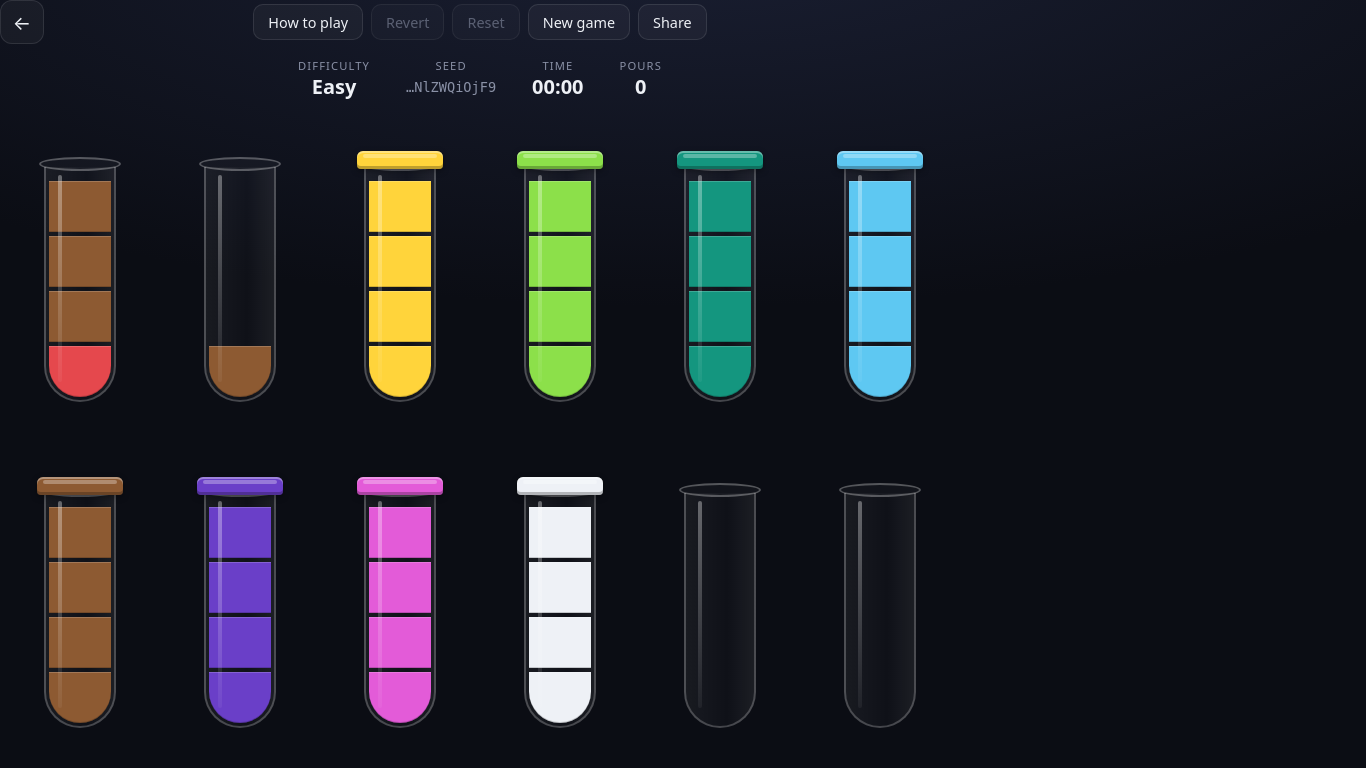
Test: actions › opens the help and pauses the clock while it is open
Click the button named "vial": click(80, 280) [44, 157, 116, 402]
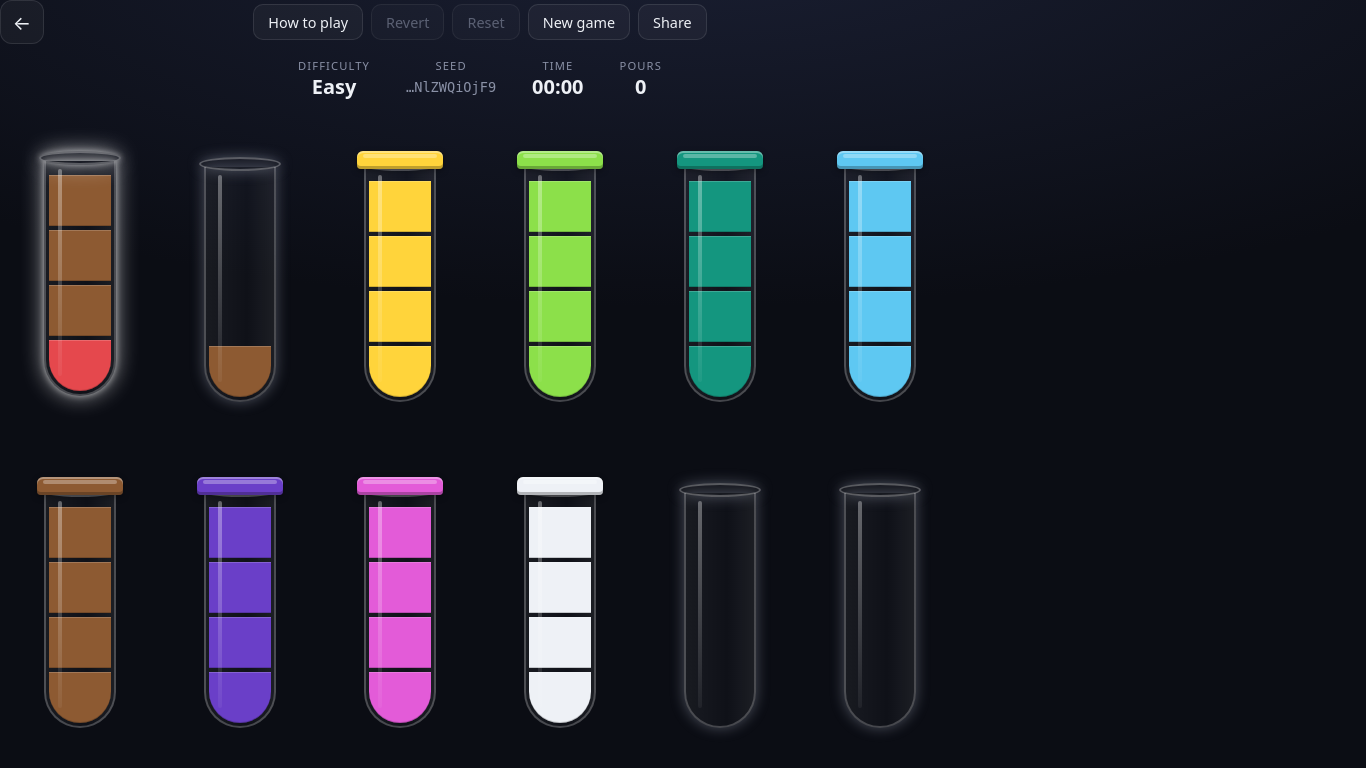
Click the button named "vial": click(240, 280) [204, 157, 276, 402]
Wait 2300 ms
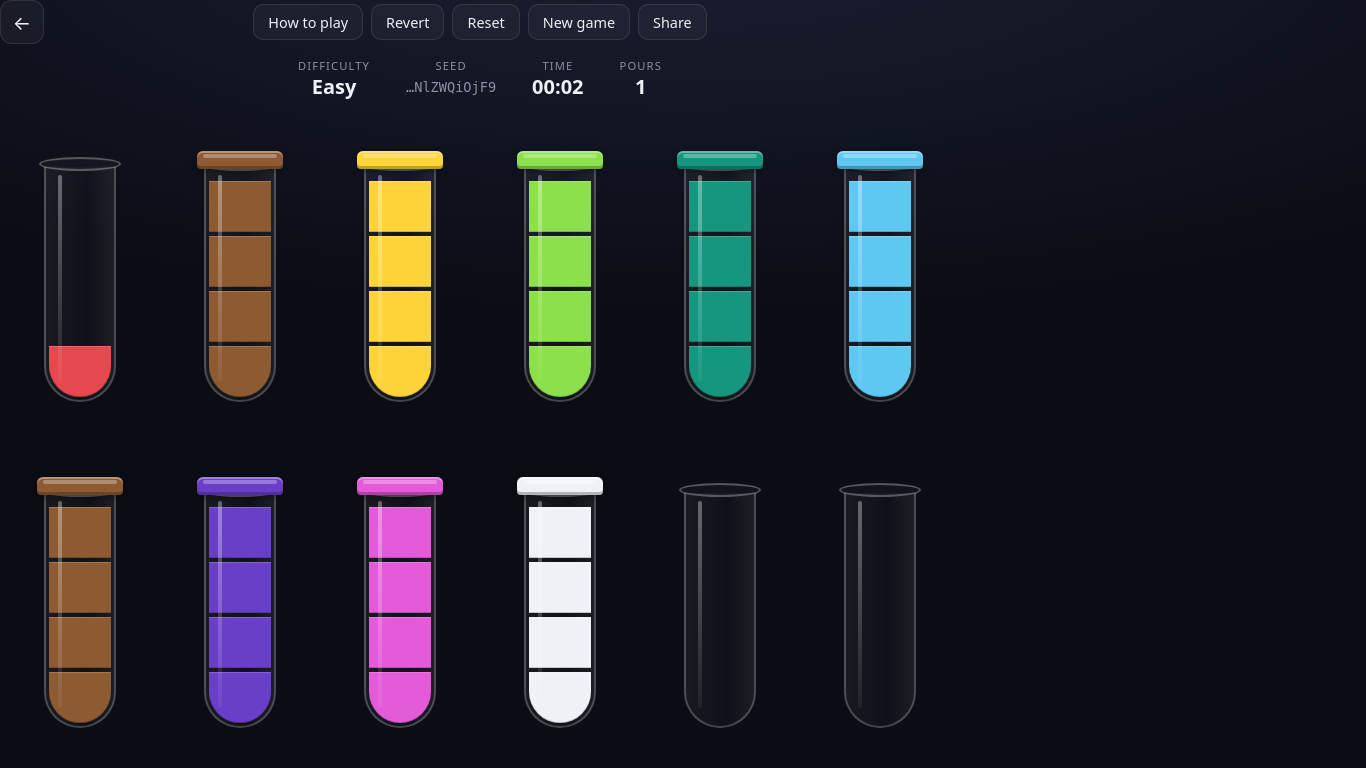
Click the button "How to play": click(308, 22) [253, 4, 363, 40]
Wait 10000 ms
(page scrolled)
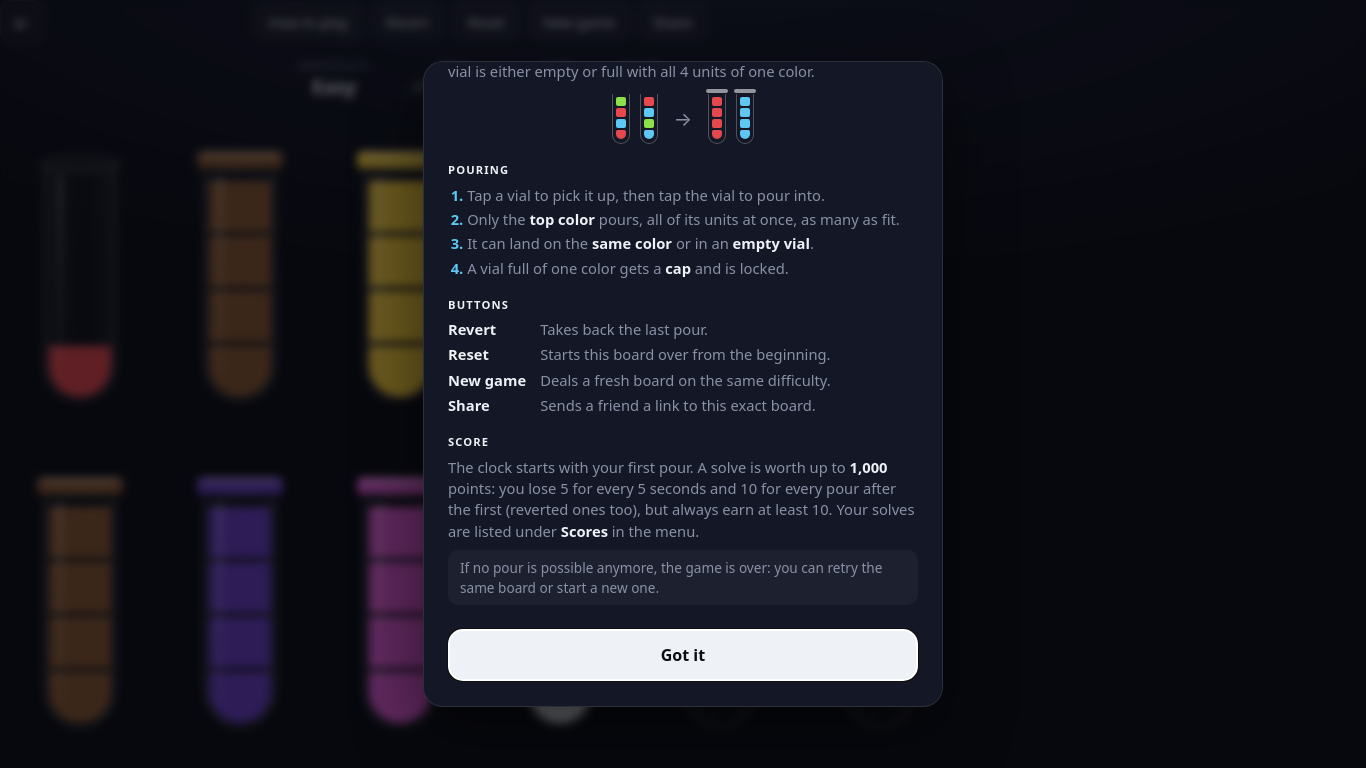
Click the button "Got it": click(683, 655) [448, 629, 918, 681]
Wait 3000 ms
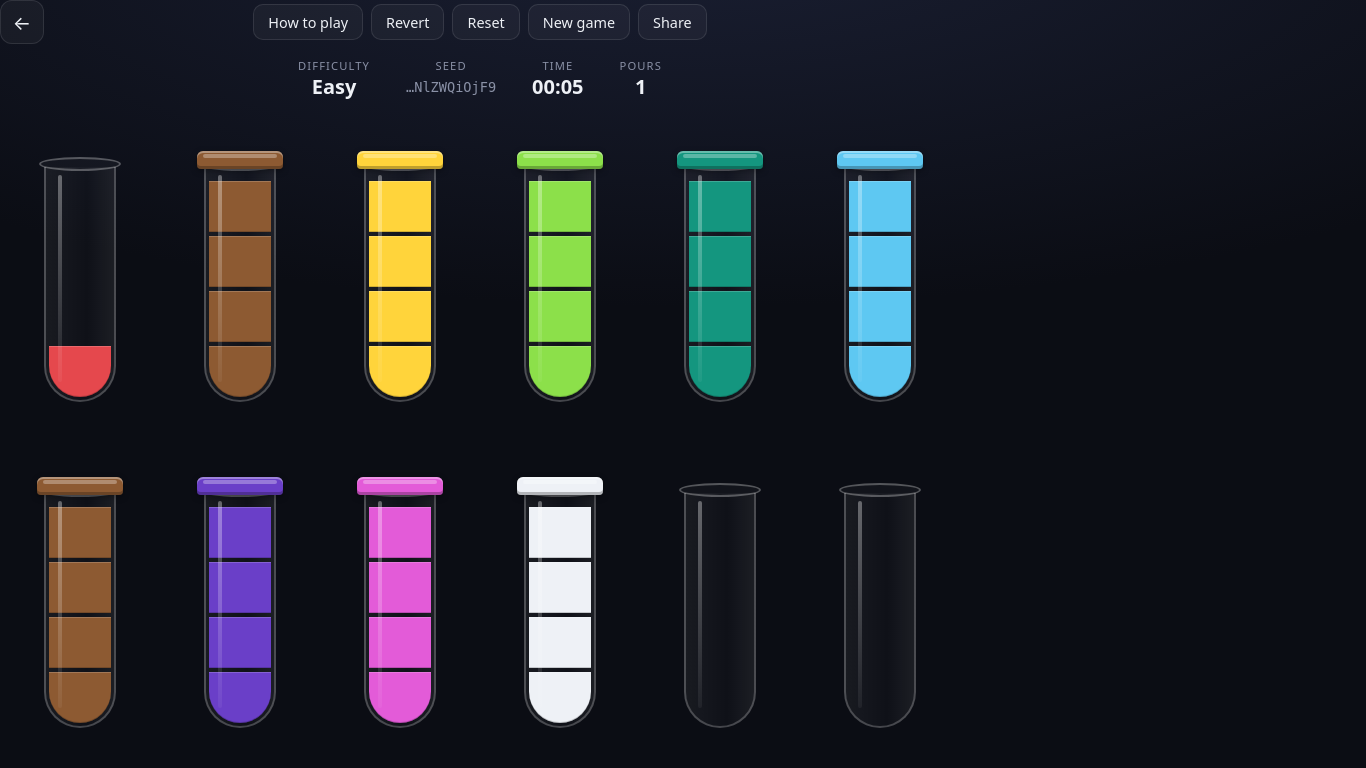
Now the dialog is gone
